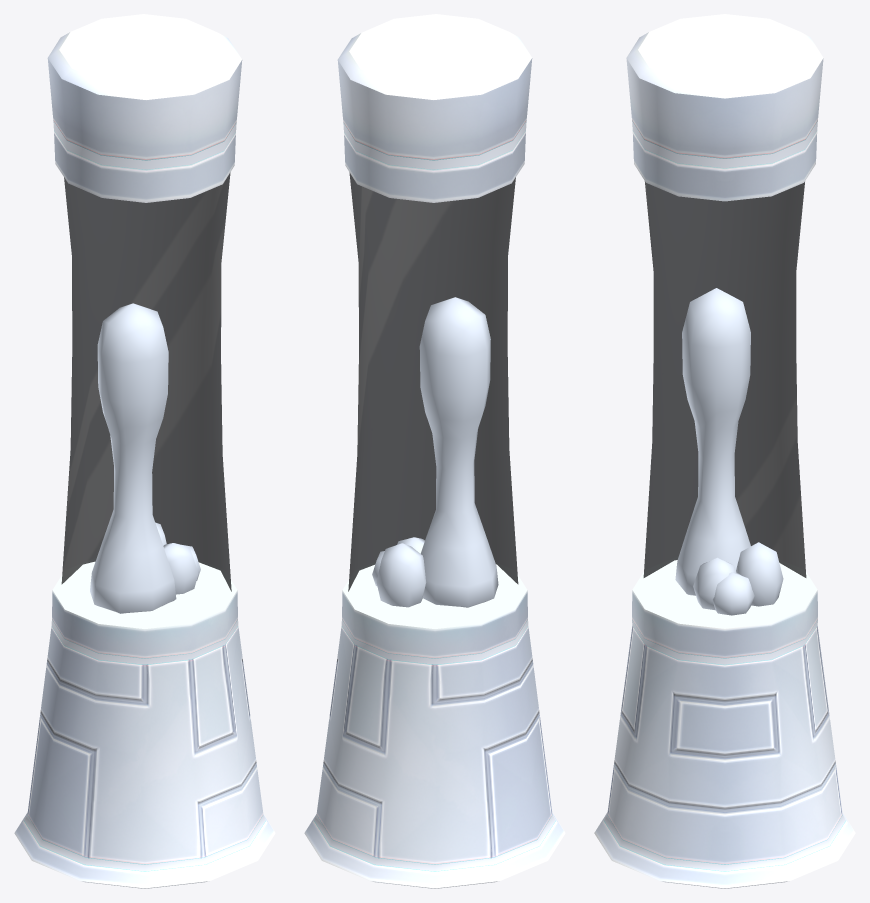
Rendered from obj_lamp03.gltf.
The picture shows the model from 3 angles, left to right: view 1: azimuth 30°, elevation 25°; view 2: azimuth 150°, elevation 25°; view 3: azimuth 270°, elevation 25°; orthographic projection.
Visible parts, largest first — view 1: obj_lamp03_mesh; view 2: obj_lamp03_mesh; view 3: obj_lamp03_mesh.
Boxes of the visible parts, x1,y1,x2,y2 form: obj_lamp03_mesh: [14, 14, 275, 888]; obj_lamp03_mesh: [304, 14, 565, 888]; obj_lamp03_mesh: [594, 14, 855, 888].
Size of what is drawn, in the model's own units: 0.6722 by 2.24 by 0.6722.
2 materials, 2 textured.
